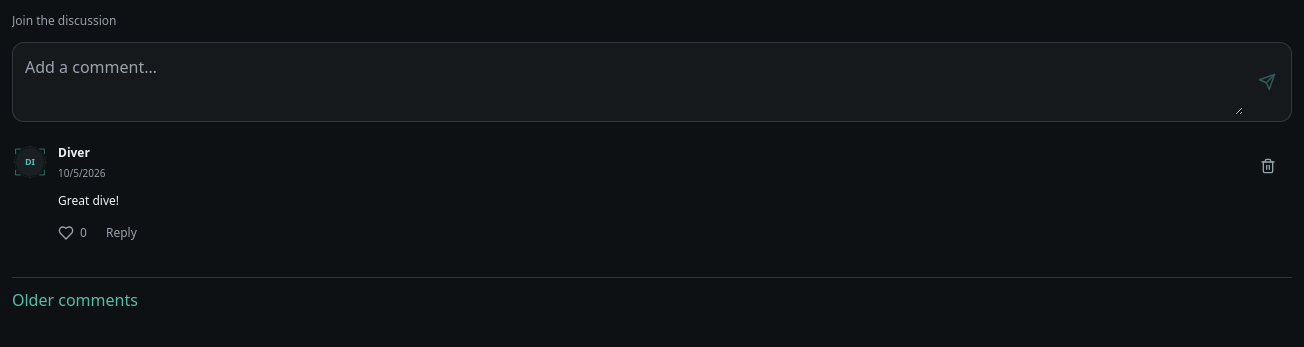
it: does not resurrect a deleted comment from a delayed pagination snapshot
Expected: the text "Great dive!" is shown, left=58, top=192, right=119, bottom=209
Click the button "Older comments" at (75, 300), box left=12, top=278, right=138, bottom=322
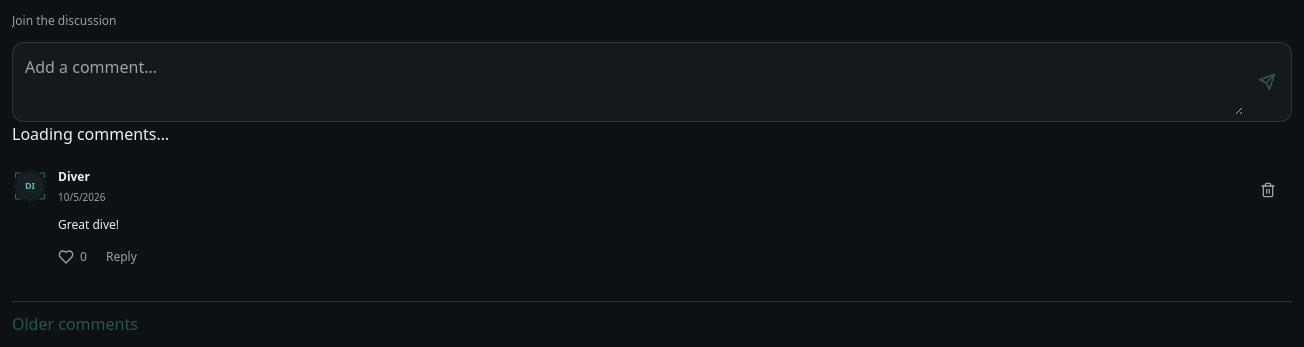
Click the button named "Delete comment by Diver" at (1276, 190), box left=1260, top=168, right=1292, bottom=212
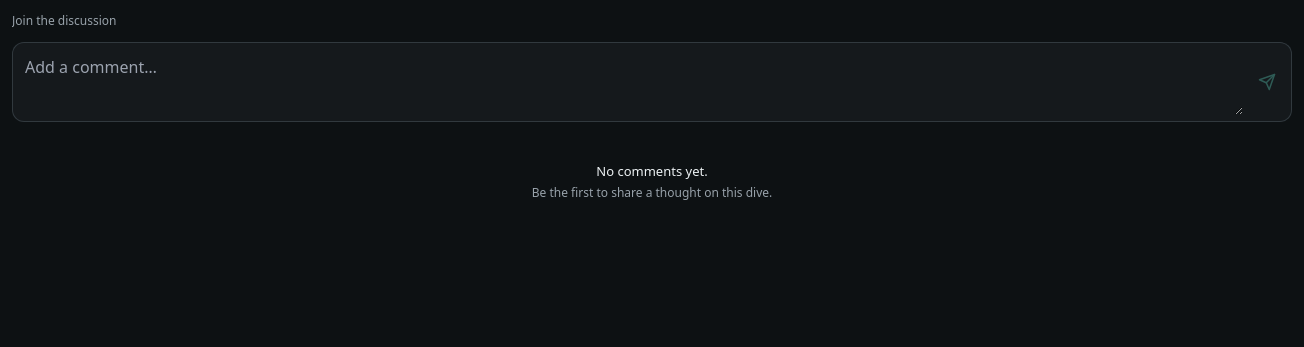
Result: the text "Great dive!" is gone
